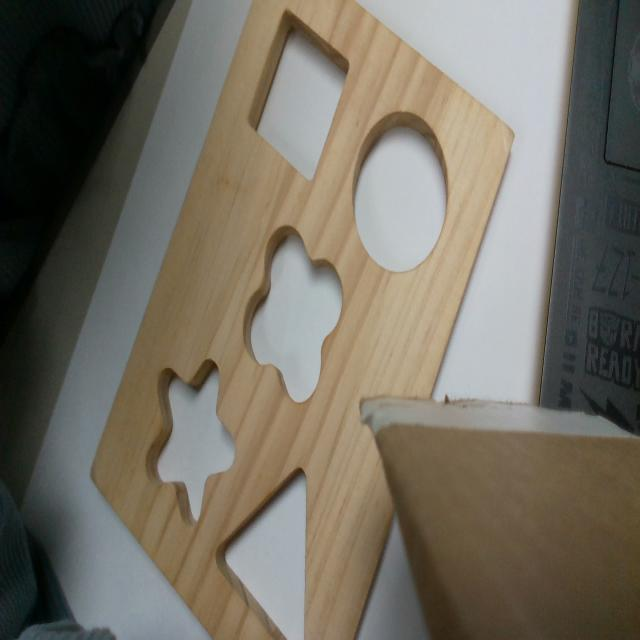circle: (353, 114, 448, 270)
flower: (243, 228, 344, 402)
square: (247, 6, 350, 181)
star: (147, 356, 236, 529)
triangle: (214, 464, 307, 639)
